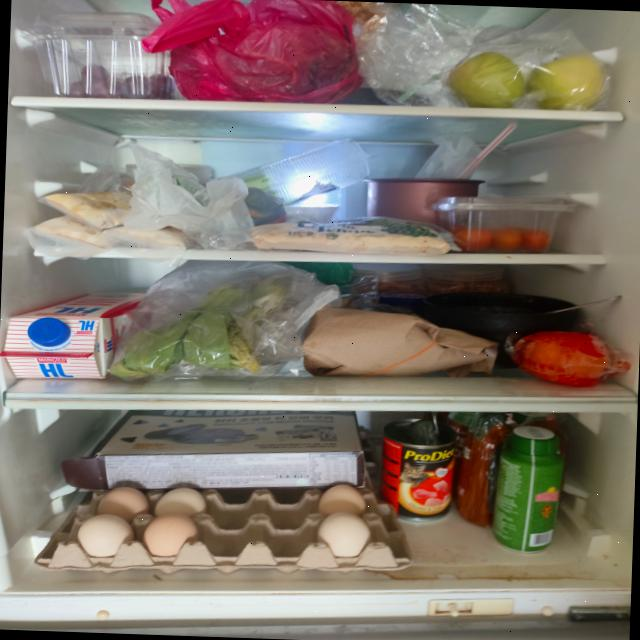apple: (446, 49, 610, 112)
grape: (68, 62, 176, 100)
tempeh: (32, 473, 414, 582), (107, 270, 287, 384), (32, 186, 198, 252), (248, 219, 452, 257), (522, 330, 611, 388)
unknown_bag: (139, 0, 367, 106)
